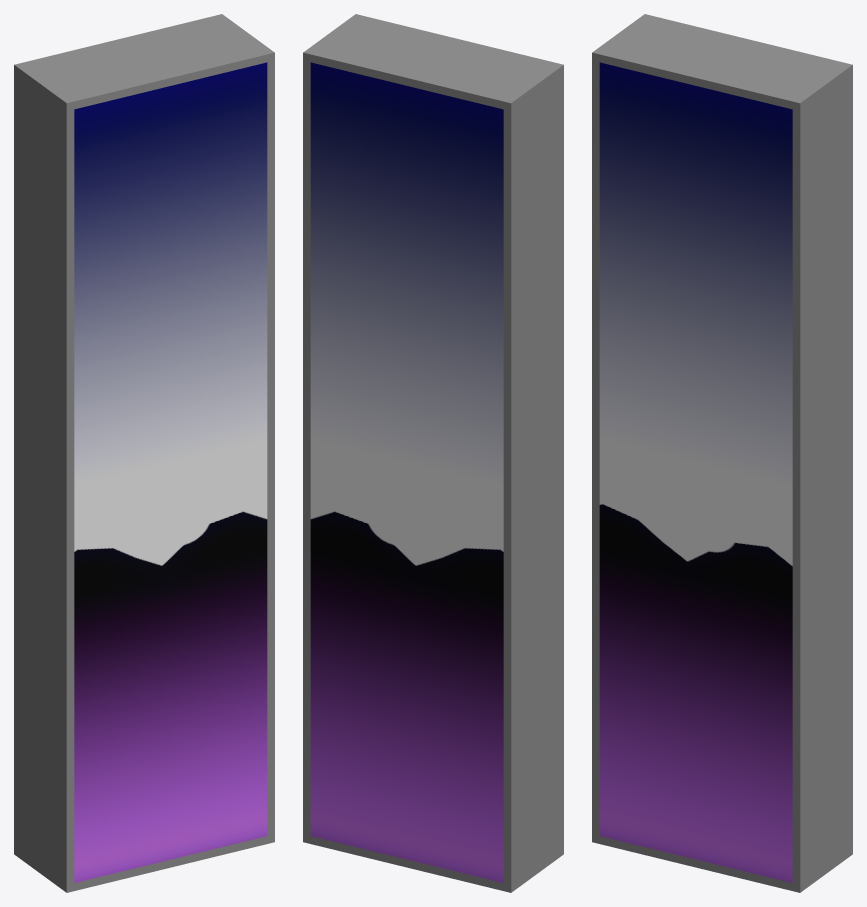
3 views of the same model, side by side, from view 1: azimuth 30°, elevation 25°; view 2: azimuth 150°, elevation 25°; view 3: azimuth 330°, elevation 25° (orthographic).
Visible parts, largest first — view 1: I, I_outline; view 2: I, I_outline; view 3: I, I_outline.
Part boxes in pixels (x1,y1,x2,y2): I: (74,62,267,882); I_outline: (14,14,274,892); I: (310,62,503,882); I_outline: (303,14,563,892); I: (599,62,792,882); I_outline: (592,14,852,892).
Size of the model in its own units: 27.35 by 99.2 by 12.
2 materials, 1 textured.
